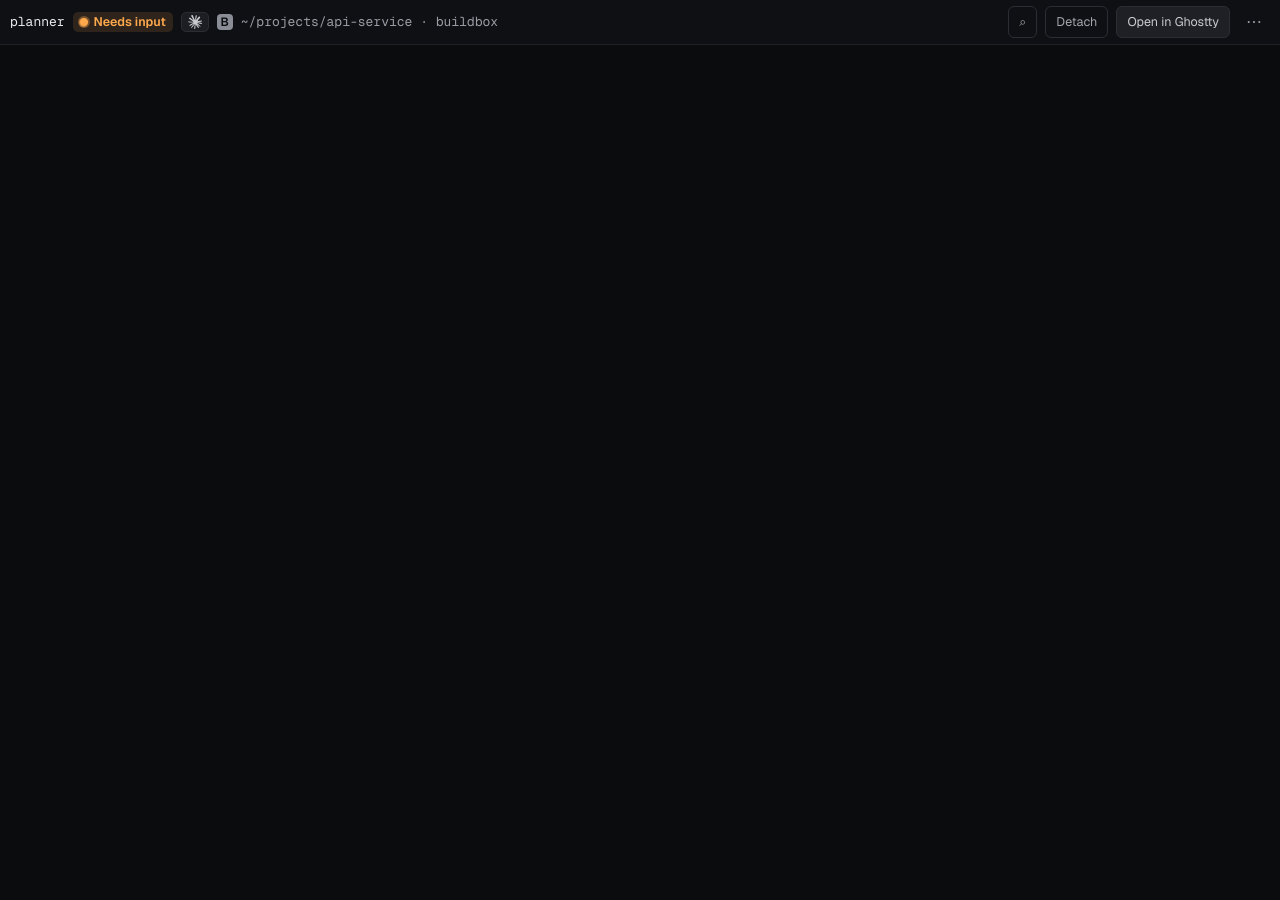
it: ContextBar › a_close_confirmation_does_not_follow_the_active_pane
Click the button named "More actions" at (1254, 22), box [1238,6,1270,38]
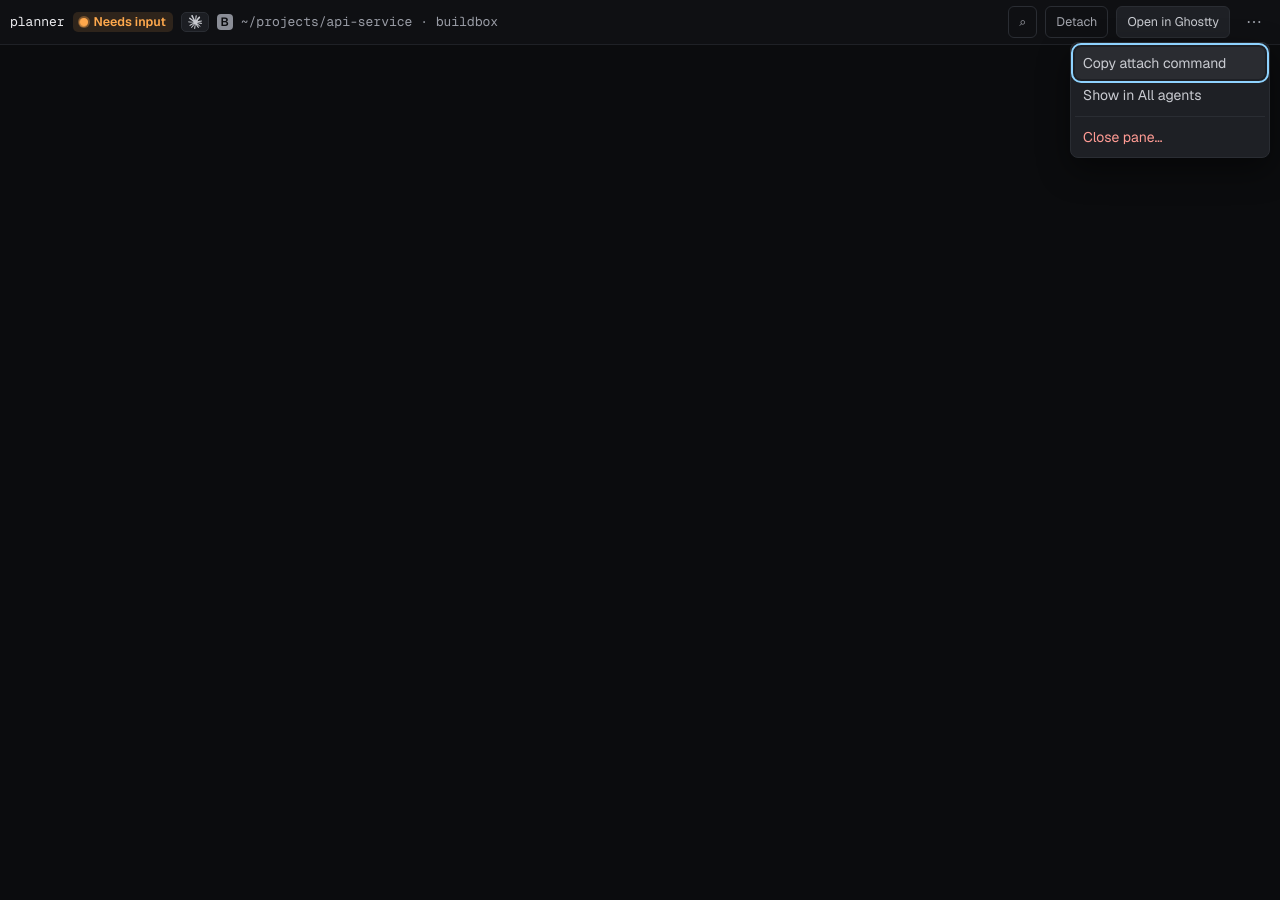
Click the menu item "Close pane…" at (1170, 137), box [1075,121,1265,153]
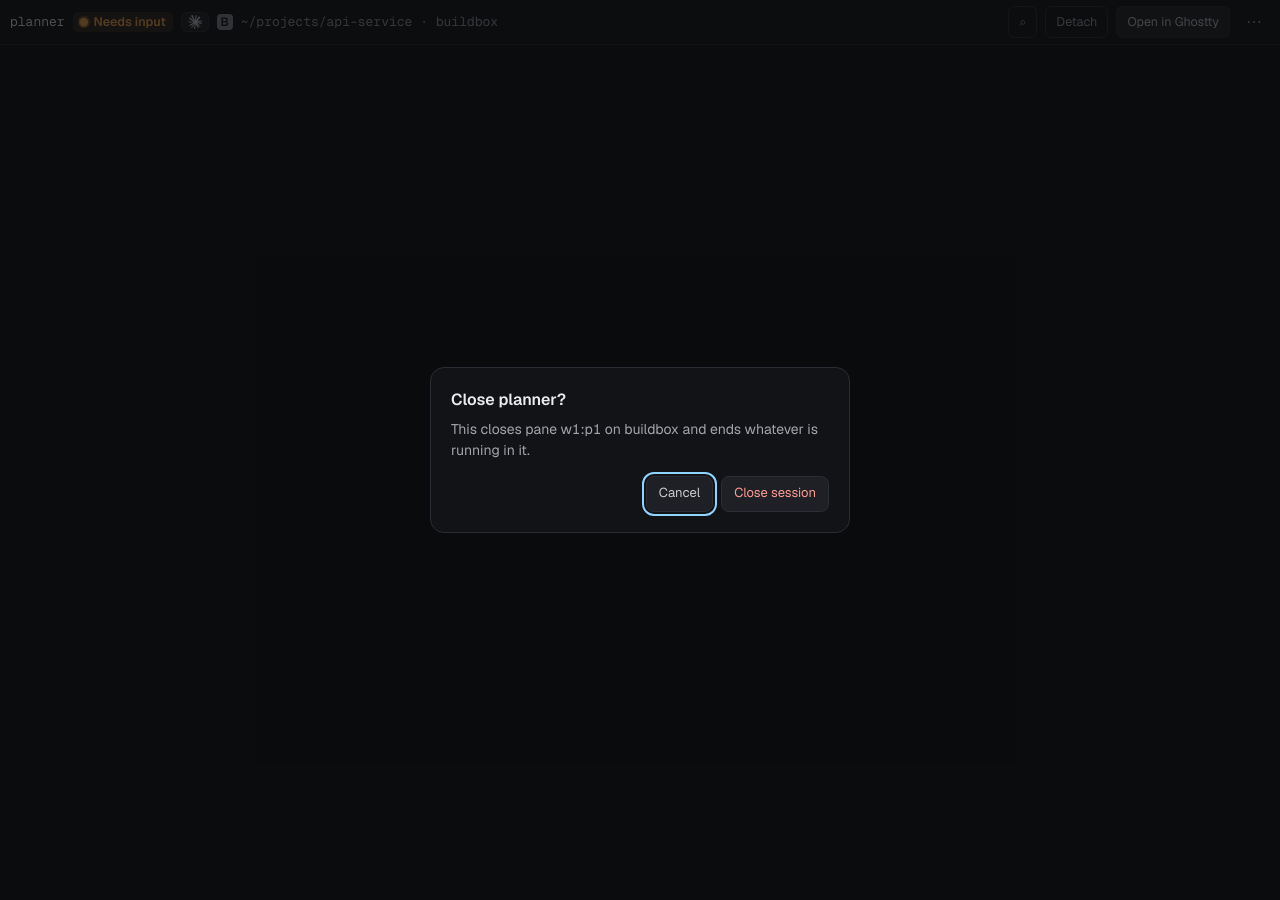
Expected: the dialog "Close planner?" is shown, [430,367,850,533]
